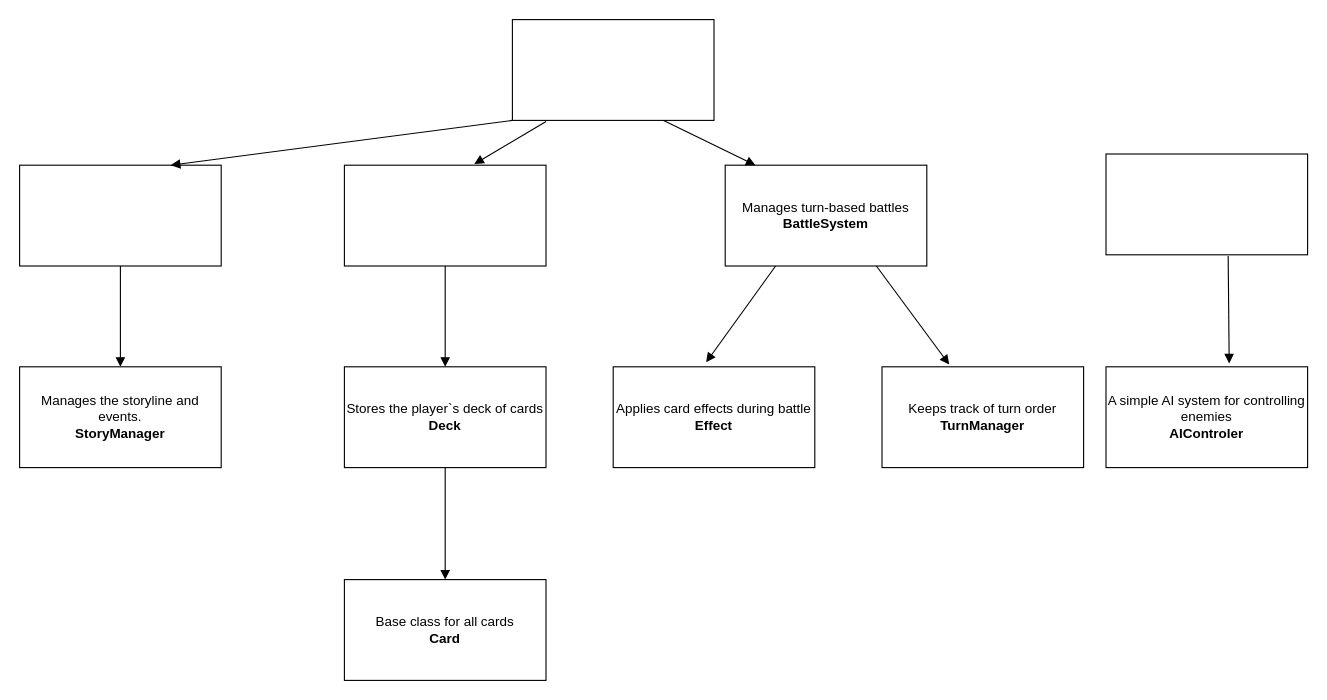
The diagram is 1327 pixels wide and 700 high, and some of its shapes have lost their labels. The box of each missing label's shape, as (x1, y1, x2, y2) in pixels:
Controls the player, including health, mana, deck and inventory. Player: (343, 164, 546, 266)
The game world where events take place. World: (18, 164, 221, 266)
The main game management object Game: (511, 18, 714, 120)
The opponents the player fight again Enemy: (1105, 153, 1308, 255)
